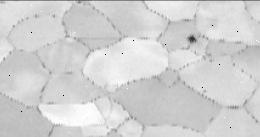good_void: (186, 33, 198, 42)
